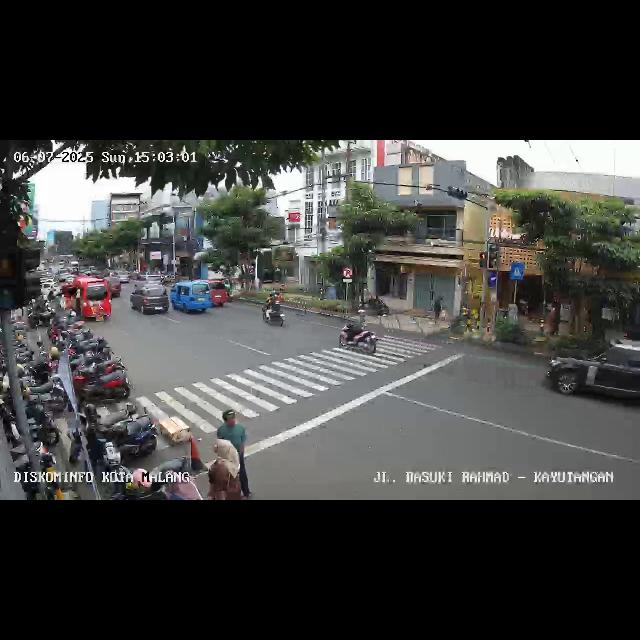car: (541, 338, 639, 414), (60, 279, 111, 323), (170, 280, 214, 316), (129, 285, 171, 317)
motorcycle: (338, 312, 376, 356), (262, 292, 286, 328)
person: (215, 406, 252, 499), (210, 438, 242, 500)
